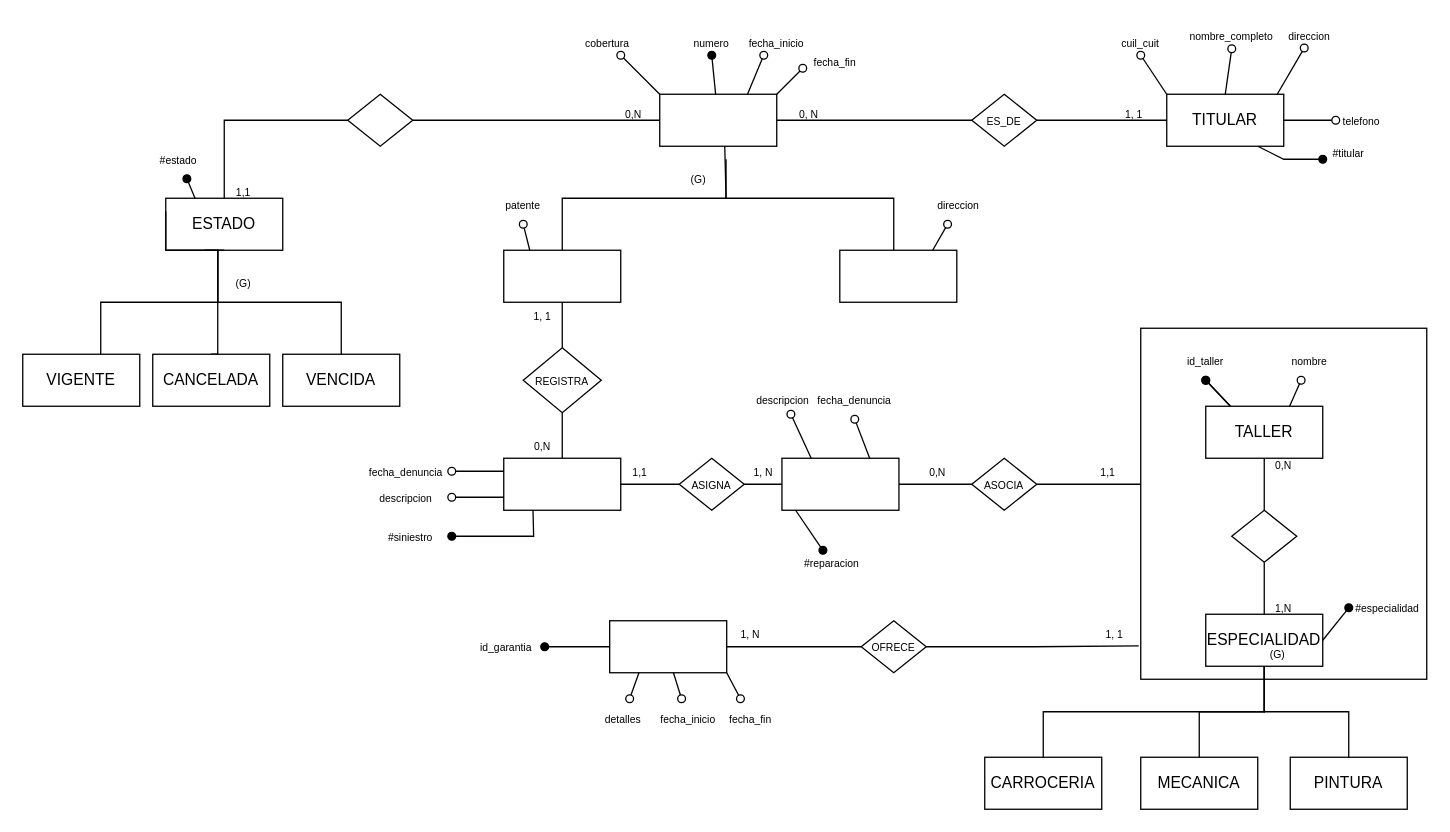
Image size: 1450x832. Some labels were removed from this diagram. Here are the shapes that lost their labels. From the top down, the centre of each, then its label:
At point (379, 119): "POSEE".
At point (717, 119): "POLIZA".
At point (561, 275): "VEHICULAR".
At point (897, 275): "HOGAR".
At point (561, 483): "SINIESTRO".
At point (840, 483): "REPARACION".
At point (1263, 535): "TIENE".
At point (667, 646): "GARANTIA".
